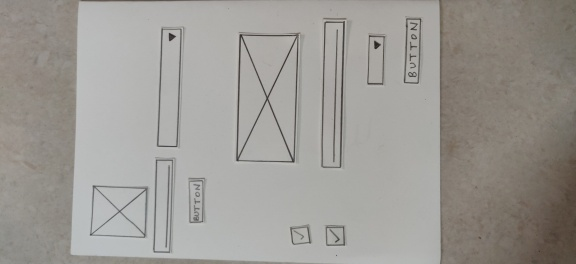button: (402, 15, 423, 87), (187, 175, 206, 226)
checkbox: (322, 223, 348, 250), (288, 223, 312, 247)
dropdown: (156, 24, 182, 149), (364, 32, 387, 88)
img: (233, 30, 300, 163)
text: (320, 16, 347, 169), (152, 156, 174, 255)
